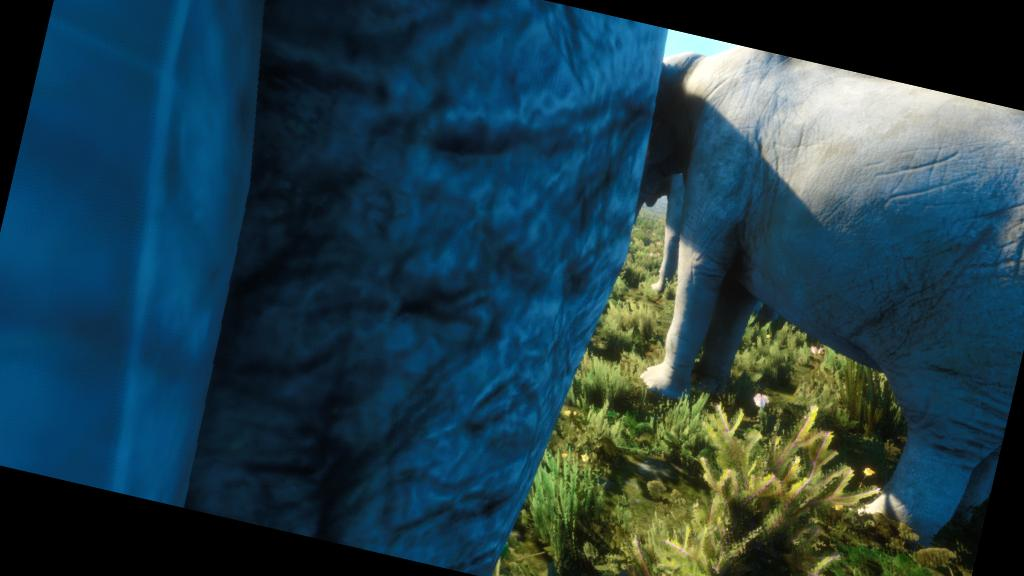elephant: (0, 0, 691, 575), (562, 27, 1023, 551)
